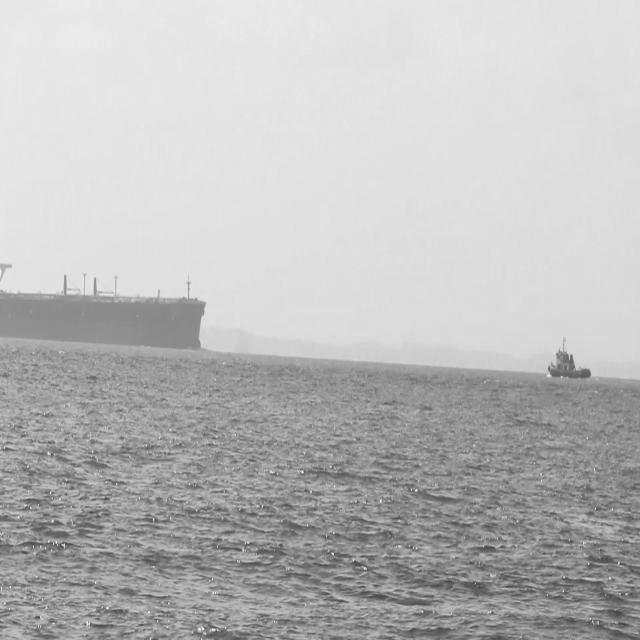ship: (0, 266, 218, 344), (546, 336, 594, 386)
